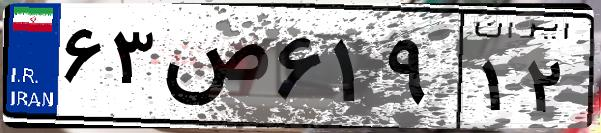1: (330, 28, 385, 110), (475, 38, 525, 113)
2: (525, 38, 570, 115)
3: (110, 28, 158, 98)
6: (270, 28, 330, 110), (57, 26, 110, 100)
9: (385, 28, 445, 110)
ص: (158, 20, 270, 120)
